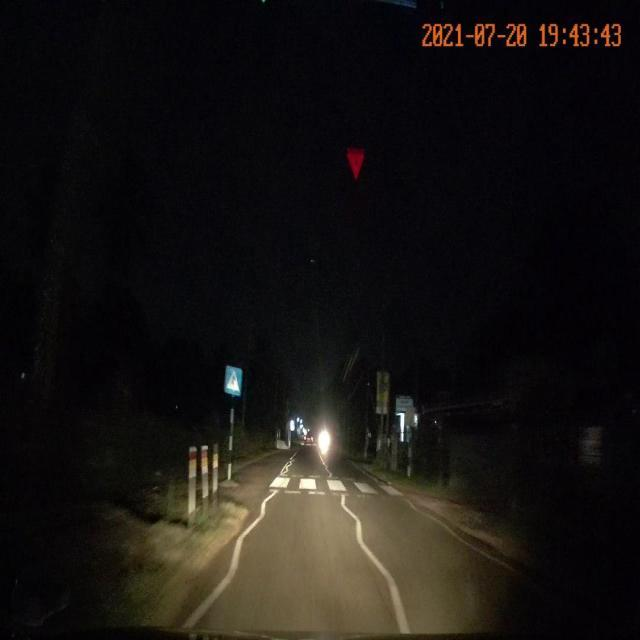Crosswalk: (263, 473, 407, 498)
